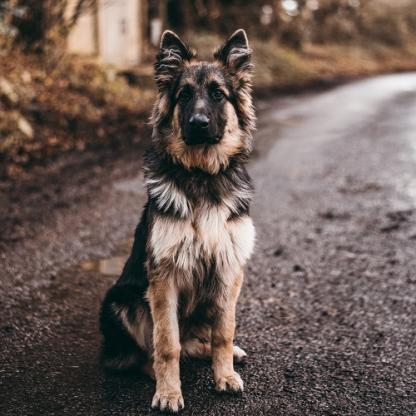dog: (84, 27, 259, 411)
